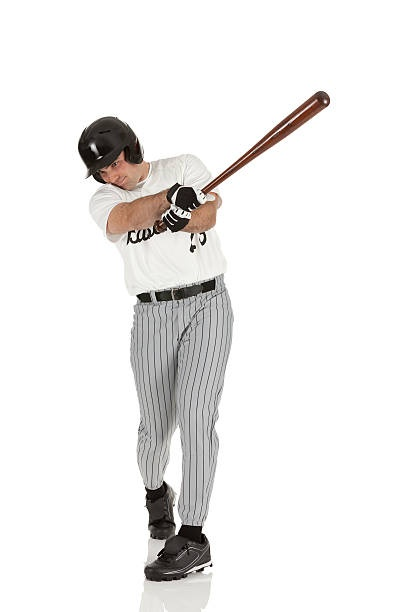bita: (194, 93, 326, 204)
